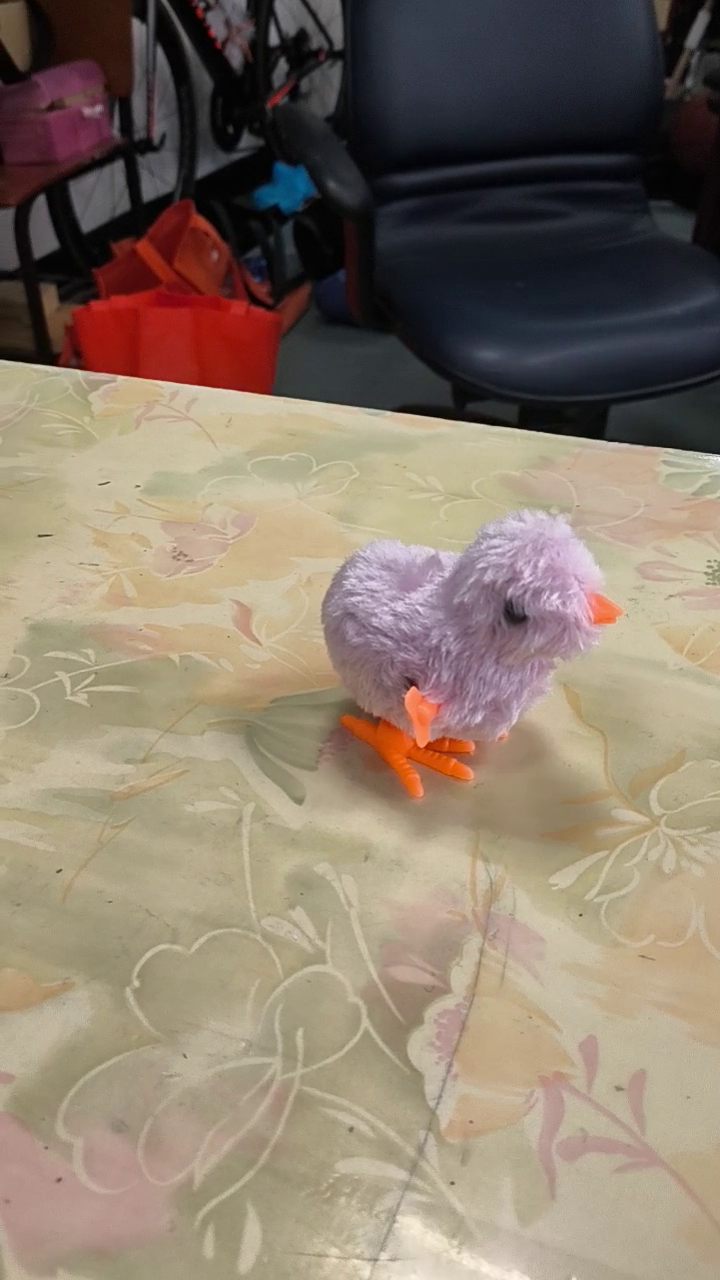pink chicken: (319, 504, 630, 807)
